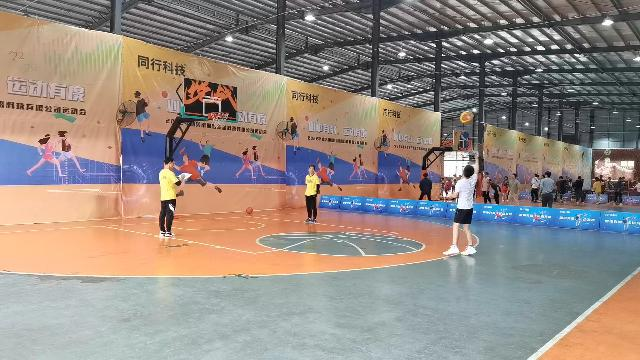ball: (460, 110, 472, 124), (245, 207, 252, 214)
basket: (210, 112, 228, 126)
